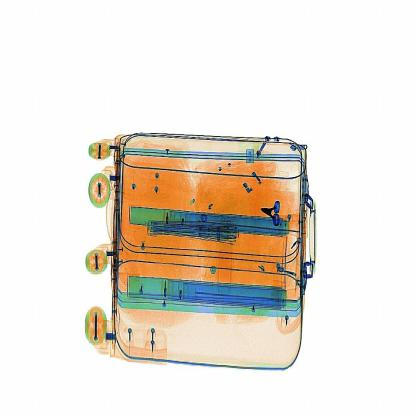gun: (261, 197, 293, 229)
